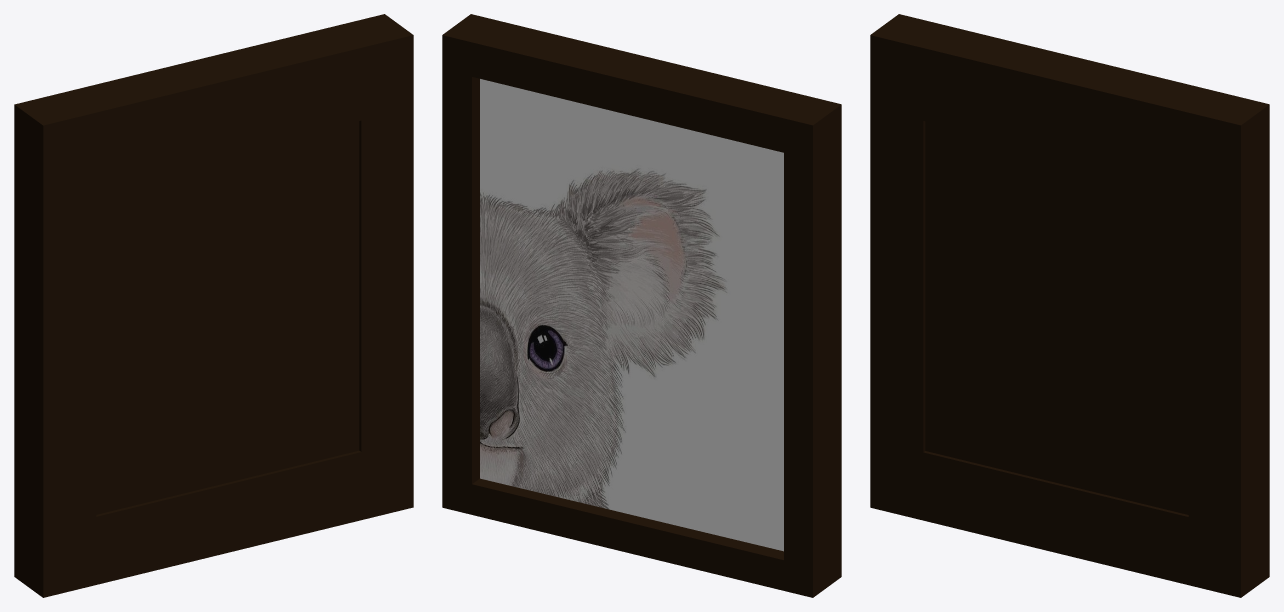
Rendered from final_painting_1.fbx.
The picture shows the model from 3 angles, left to right: view 1: azimuth 30°, elevation 25°; view 2: azimuth 150°, elevation 25°; view 3: azimuth 330°, elevation 25°; orthographic projection.
Parts seen in each view (by area): view 1: quadro_4; view 2: Canvas, quadro_4; view 3: quadro_4.
Boxes of the visible parts, left/top/right/bottom form: quadro_4: left=14, top=14, right=413, bottom=597; Canvas: left=480, top=79, right=783, bottom=551; quadro_4: left=442, top=14, right=841, bottom=597; quadro_4: left=870, top=14, right=1269, bottom=597.
Size of the model in its own units: 35.66 by 43.48 by 4.83.
Materials: 2 (1 with a texture image).
